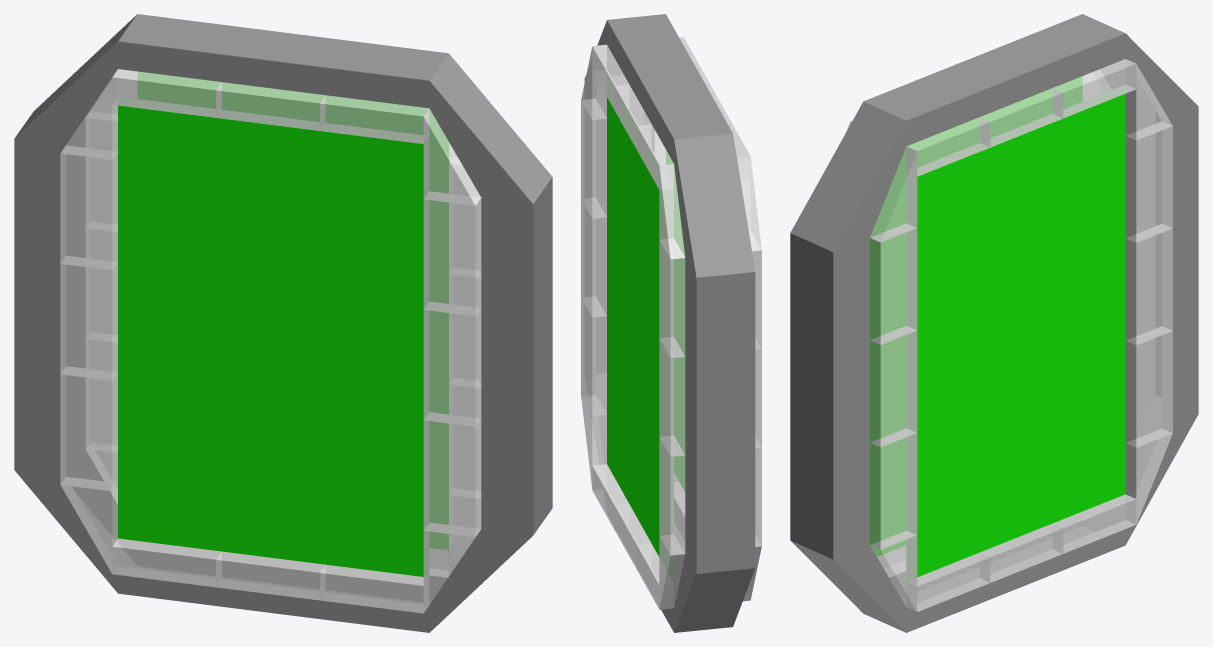
Rendered from coinGreen.fbx.
3 views of the same model, side by side, from view 1: azimuth 30°, elevation 25°; view 2: azimuth 150°, elevation 25°; view 3: azimuth 270°, elevation 25° (orthographic). The views are drawn at different scales.
Visible parts, largest first — view 1: Cube; view 2: Cube; view 3: Cube.
Part boxes in pixels (<box>): Cube: <box>14,14,552,632</box>; Cube: <box>581,14,761,632</box>; Cube: <box>790,14,1198,632</box>.
Size of the model in its own units: 62.19 by 90 by 65.03.
